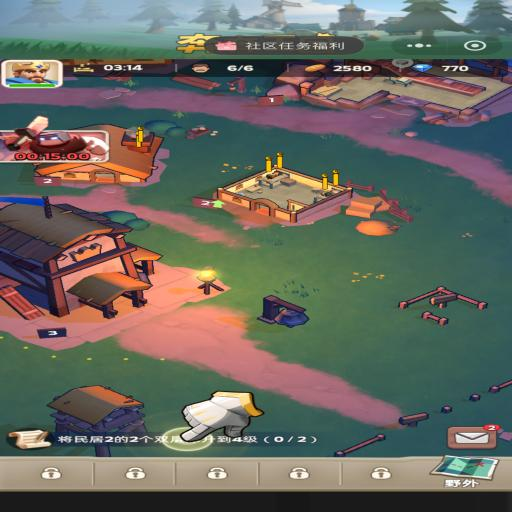newcomer_hand: (177, 390, 262, 441)
